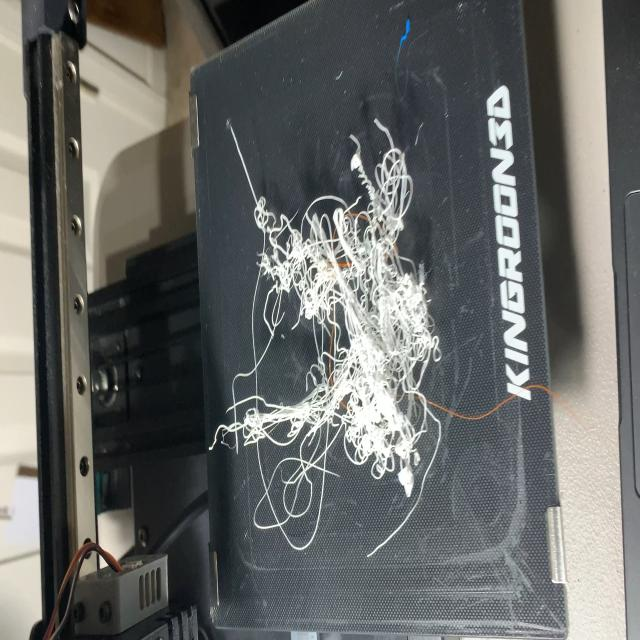spaghetti: (208, 113, 444, 560)
